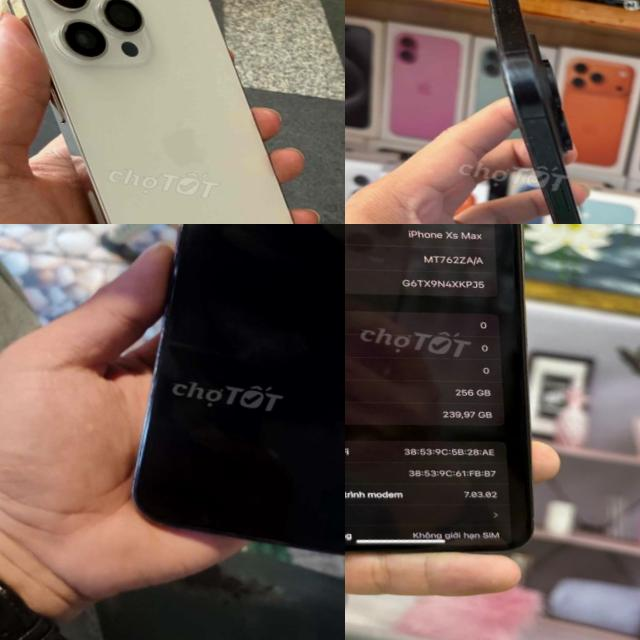scratch: (509, 115, 571, 193), (479, 0, 539, 60)
